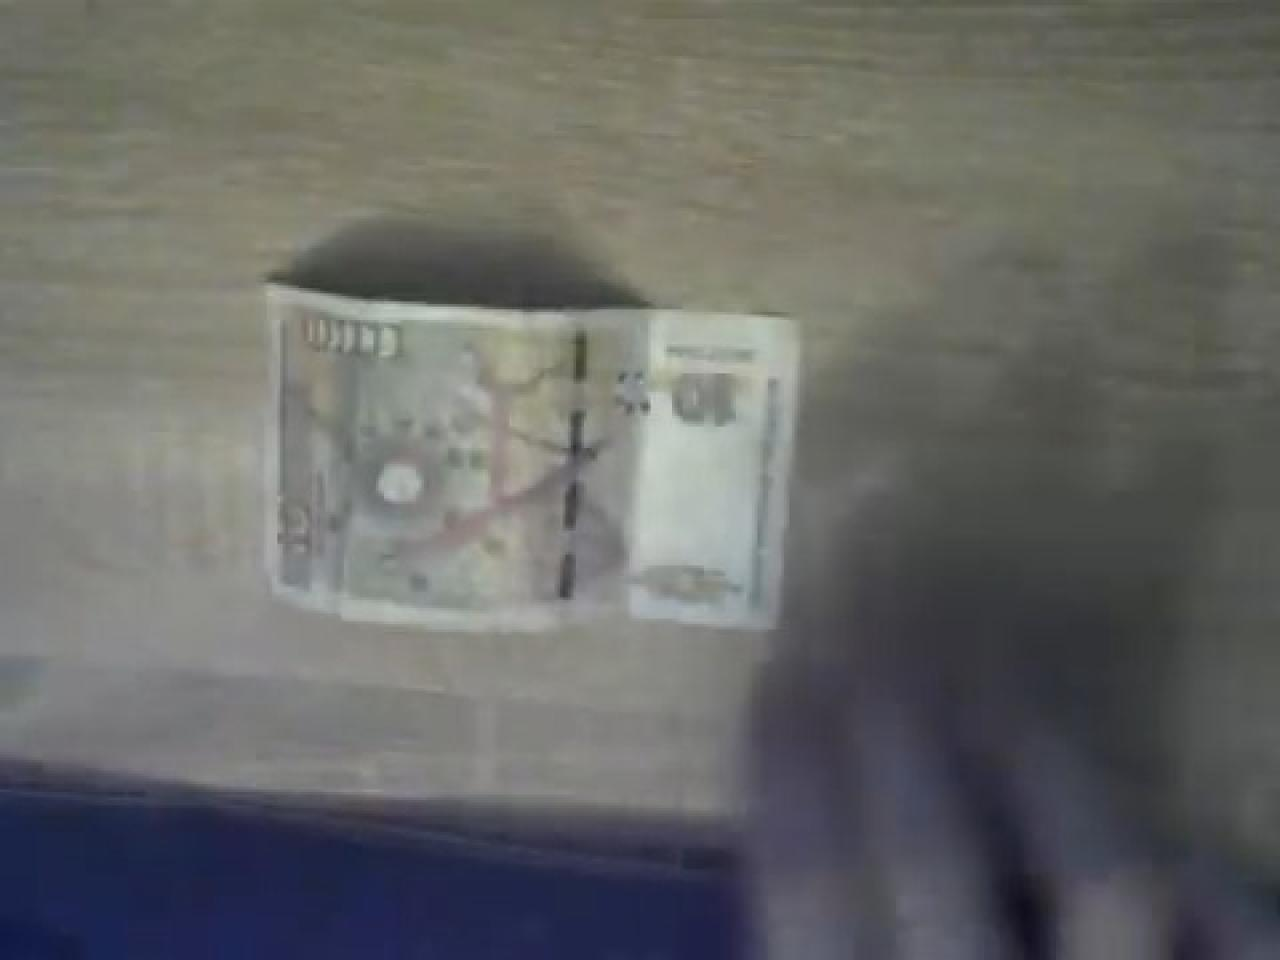10leva: (251, 280, 797, 629)
